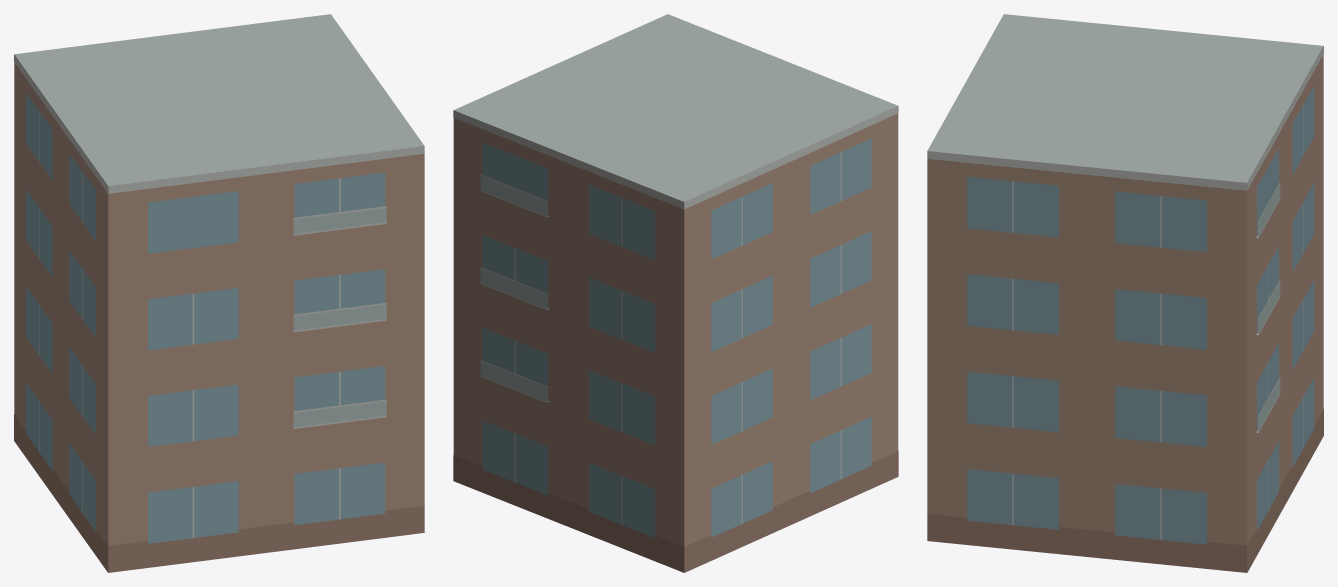
The model's file is residential-289da733-b086-4aaa-891b-96be2333d377.glb.
3 views of the same model, side by side, from view 1: azimuth 30°, elevation 25°; view 2: azimuth 150°, elevation 25°; view 3: azimuth 270°, elevation 25° (orthographic). The views are drawn at different scales.
Visible parts, largest first — view 1: residential-289da733-b086-4aaa-891b-96be2333d377.tmp; view 2: residential-289da733-b086-4aaa-891b-96be2333d377.tmp; view 3: residential-289da733-b086-4aaa-891b-96be2333d377.tmp.
Boxes of the visible parts, x1,y1,x2,y2 form: residential-289da733-b086-4aaa-891b-96be2333d377.tmp: (14, 14, 424, 572); residential-289da733-b086-4aaa-891b-96be2333d377.tmp: (453, 14, 898, 572); residential-289da733-b086-4aaa-891b-96be2333d377.tmp: (927, 14, 1323, 572).
Size of the model in its own units: 11.35 by 12.2 by 11.25.
